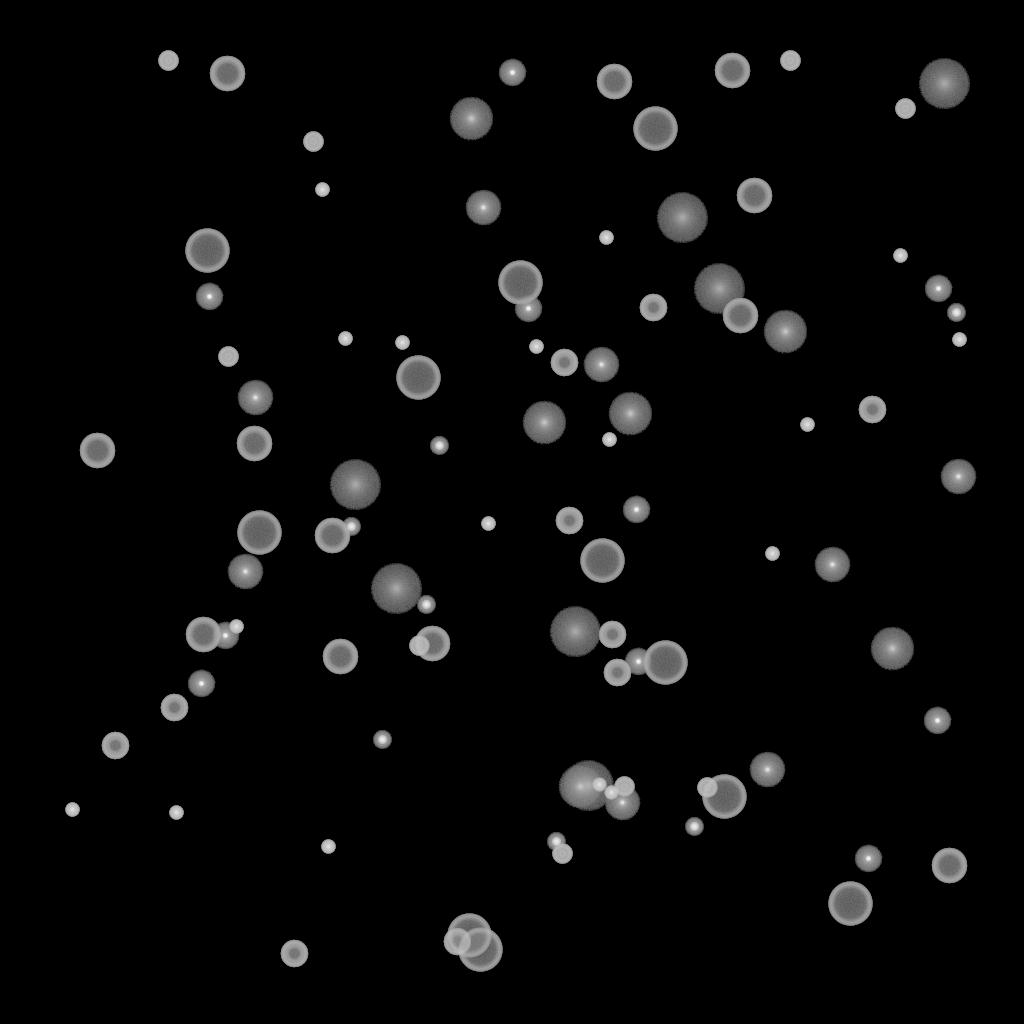depth:-10: (514, 295, 542, 323), (187, 670, 215, 698), (622, 496, 650, 524), (923, 707, 951, 735), (624, 648, 652, 676), (195, 283, 223, 311), (854, 845, 882, 873), (211, 622, 239, 650), (924, 275, 952, 303), (498, 59, 526, 87)
depth:-20: (417, 596, 435, 614), (947, 304, 965, 322), (373, 731, 391, 749), (547, 833, 565, 851), (685, 818, 703, 836), (342, 518, 360, 536), (430, 437, 448, 455)
depth:-30: (604, 786, 618, 800), (65, 803, 79, 817), (952, 333, 966, 347), (481, 517, 495, 531), (592, 778, 606, 792), (229, 620, 243, 634), (529, 340, 543, 354), (893, 249, 907, 263), (395, 336, 409, 350), (602, 433, 616, 447), (315, 183, 329, 197), (800, 418, 814, 432), (169, 806, 183, 820), (599, 231, 613, 245), (338, 332, 352, 346), (321, 840, 335, 854), (765, 547, 779, 561)
depth:-40: (552, 844, 572, 864), (697, 778, 717, 798), (614, 777, 634, 797), (218, 347, 238, 367), (158, 51, 178, 71), (303, 132, 323, 152), (780, 51, 800, 71), (409, 636, 429, 656), (895, 99, 915, 119)
depth:-50: (550, 349, 578, 377), (603, 659, 631, 687), (280, 940, 308, 968), (639, 294, 667, 322), (101, 732, 129, 760), (858, 396, 886, 424), (598, 621, 626, 649), (443, 928, 471, 956), (160, 694, 188, 722), (555, 507, 583, 535)
depth:-60: (596, 64, 632, 100), (322, 639, 358, 675), (931, 848, 967, 884), (736, 178, 772, 214), (414, 626, 450, 662), (236, 426, 272, 462), (714, 53, 750, 89), (314, 518, 350, 554), (185, 617, 221, 653), (209, 56, 245, 92), (722, 298, 758, 334), (79, 433, 115, 469)
depth:-70: (633, 107, 677, 151), (458, 928, 502, 972), (185, 229, 229, 273), (702, 775, 746, 819), (237, 511, 281, 555), (828, 882, 872, 926), (396, 356, 440, 400), (580, 539, 624, 583), (447, 914, 491, 958), (498, 261, 542, 305), (643, 641, 687, 685)
depth:0: (227, 554, 263, 590), (237, 380, 273, 416), (583, 347, 619, 383), (604, 785, 640, 821), (465, 190, 501, 226), (940, 459, 976, 495), (814, 547, 850, 583), (749, 752, 785, 788)
depth:10: (870, 627, 914, 671), (522, 401, 566, 445), (558, 765, 602, 809), (449, 97, 493, 141), (763, 310, 807, 354), (608, 392, 652, 436)
depth:20: (549, 607, 601, 657), (370, 564, 422, 614), (693, 264, 745, 314), (918, 59, 970, 109), (329, 460, 381, 510), (562, 761, 614, 811), (656, 193, 708, 243)
